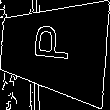P_W: (32, 29, 76, 70)
